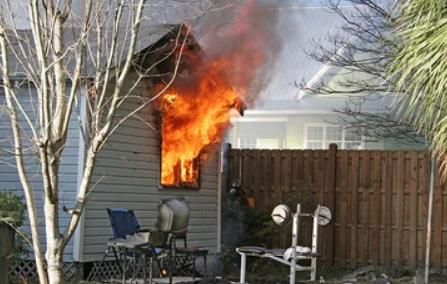fire: (131, 50, 247, 196)
smoke: (193, 0, 285, 116)
